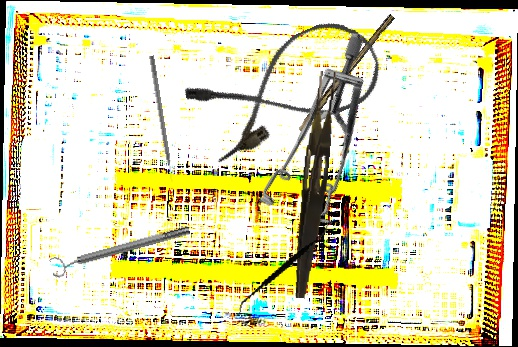Cannula: (181, 8, 392, 167)
Dressing Forceps: (292, 70, 337, 300)
Fixation Ring: (48, 219, 193, 280)
Hook Surgical: (148, 55, 174, 183)
Scalpel Handle: (295, 11, 396, 134)
Spatula Surgical: (237, 206, 331, 332)
Speculum: (210, 28, 442, 251)
